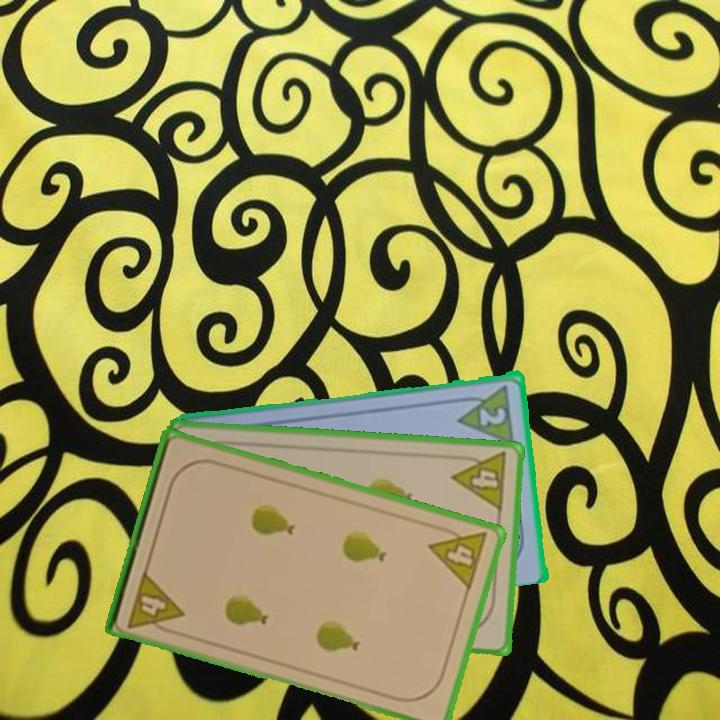2p: (476, 403, 509, 429)
4p: (425, 520, 490, 593), (124, 567, 187, 638), (449, 449, 510, 514)
